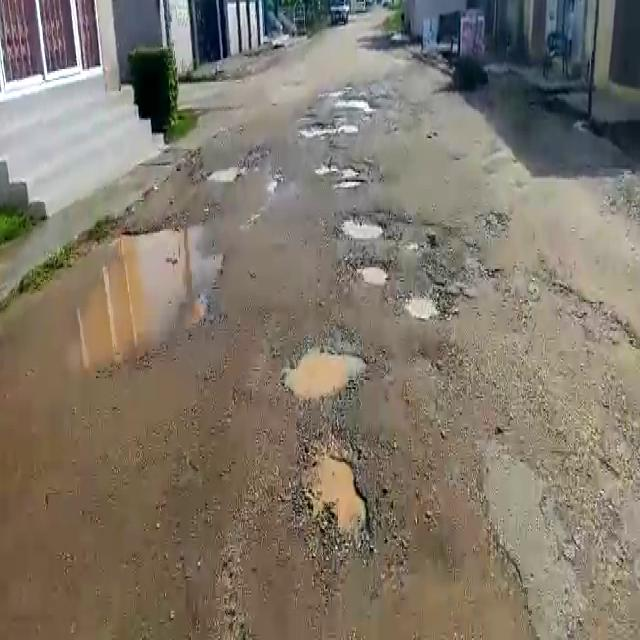Pothole: (8, 222, 222, 376), (294, 437, 378, 548), (282, 340, 368, 402), (398, 289, 448, 319), (315, 164, 366, 190), (342, 211, 386, 240), (351, 258, 392, 286), (301, 118, 358, 136)
